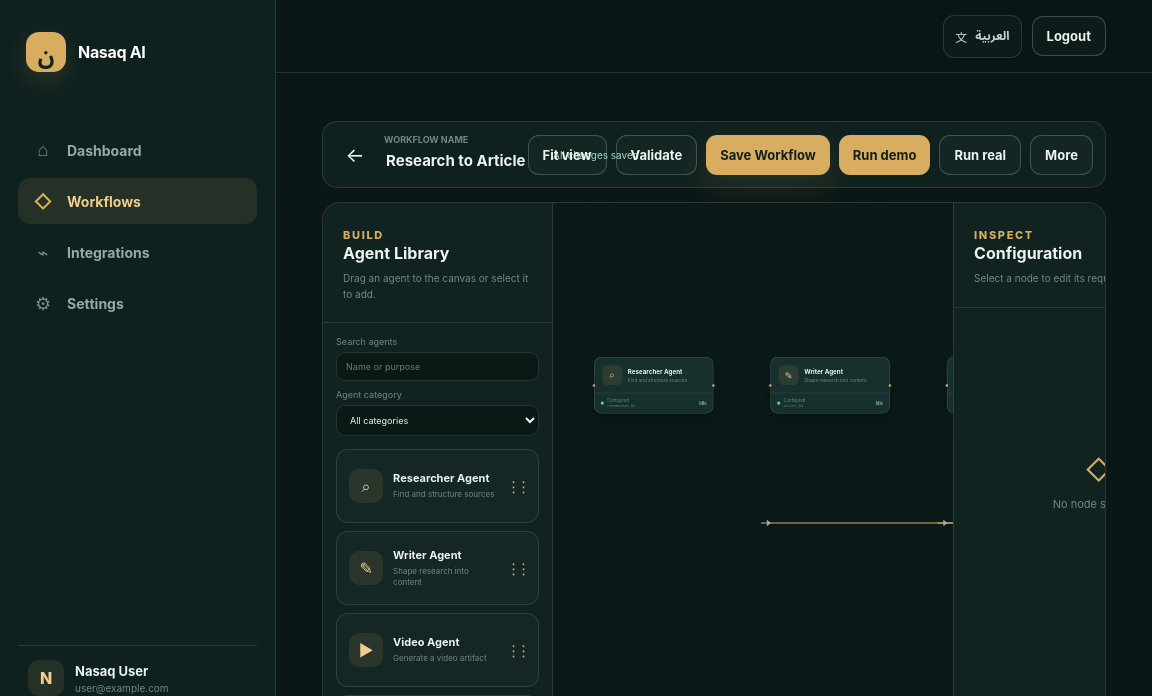
it: Nasaq application shell and persisted workflow editor › runs the saved workflow and presents polled logs and downloadable outputs
The width and height of the screenshot is (1152, 696).
Click the button "Run demo" at (885, 154), box [839,134,930,174]
(page scrolled)
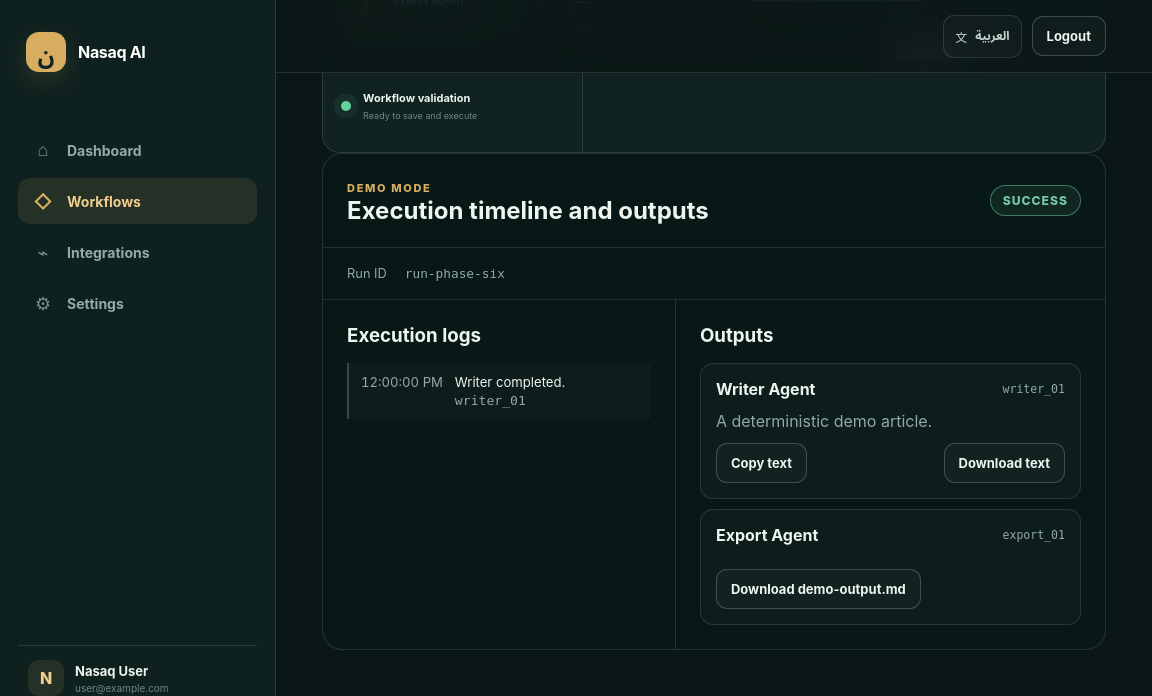
Result: the heading "Execution timeline and outputs" is shown at [347,196,709,225]
Result: the text "Writer completed." is shown at [455,374,565,390]
Result: the text "A deterministic demo article." is shown at [716,411,932,431]
